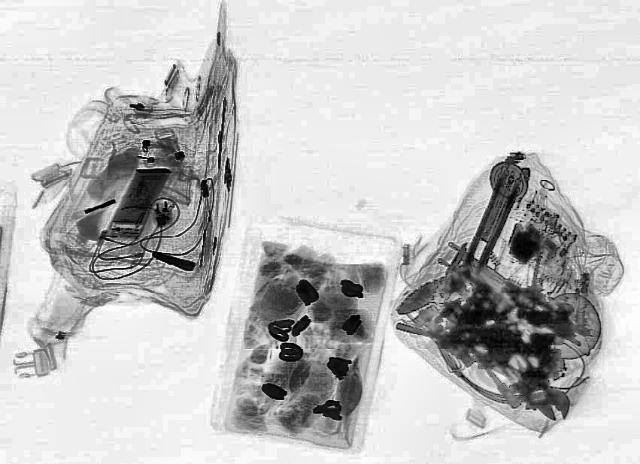Wrench: (488, 336, 580, 426)
